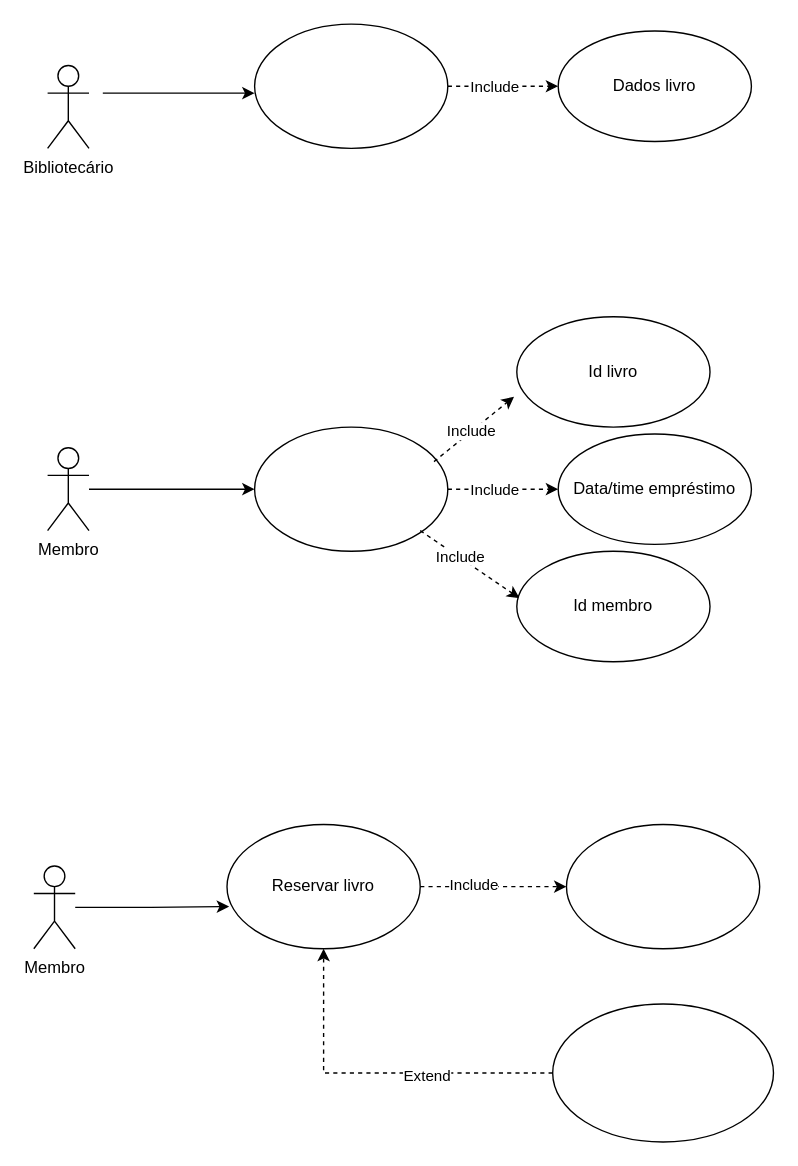
Some shapes in this 798 by 1166 pixel diagram are drawn without their labels. Here are the shapes that lost their labels. From the top down, the centre of each, then its label:
At pixel 350 85: "Cadastro de livro".
At pixel 350 488: "Registrar empréstimo".
At pixel 662 886: "Notificar se está disponível ou está ocupado".
At pixel 662 1072: "Enviar notificação de disponibilidade".
